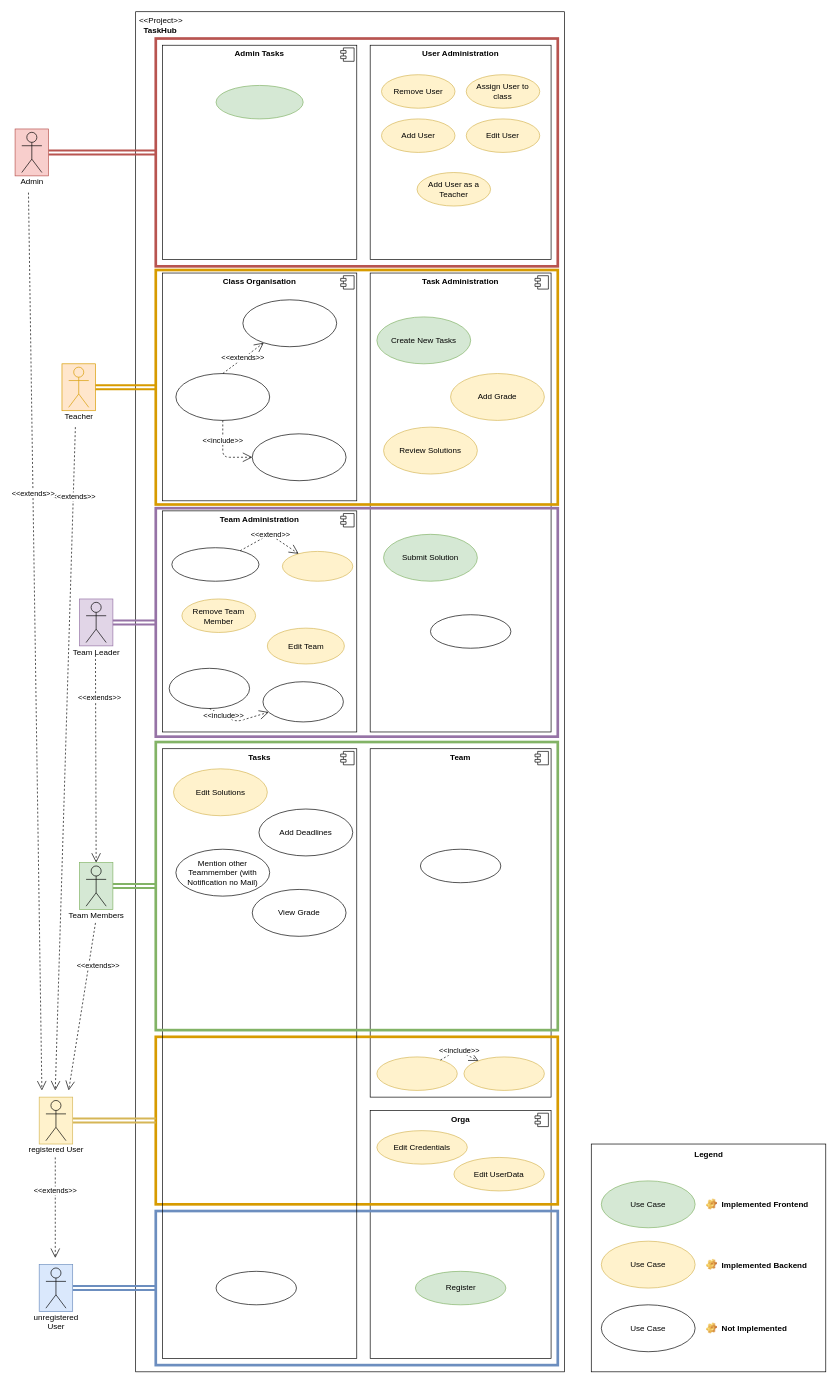
The diagram is 838 pixels wide and 1384 high, and some of its shapes have lost their labels. Here are the shapes that lost their labels. From the top down, the centre of each, then its label:
the point at 259,102: Create New Class f.e B4
the point at 289,323: Notify all Classmembers
the point at 222,396: Notify Single Team
the point at 299,457: Notify Single Student
the point at 215,564: Generate Invitation Links
the point at 317,566: Add Classmate to Team
the point at 470,631: Share Solution
the point at 209,688: Notify Full Team
the point at 302,701: Notify Member
the point at 460,866: Leave Team
the point at 416,1073: Create New Team
the point at 503,1073: Assign to Group Leader
the point at 255,1288: View Shared Solution
